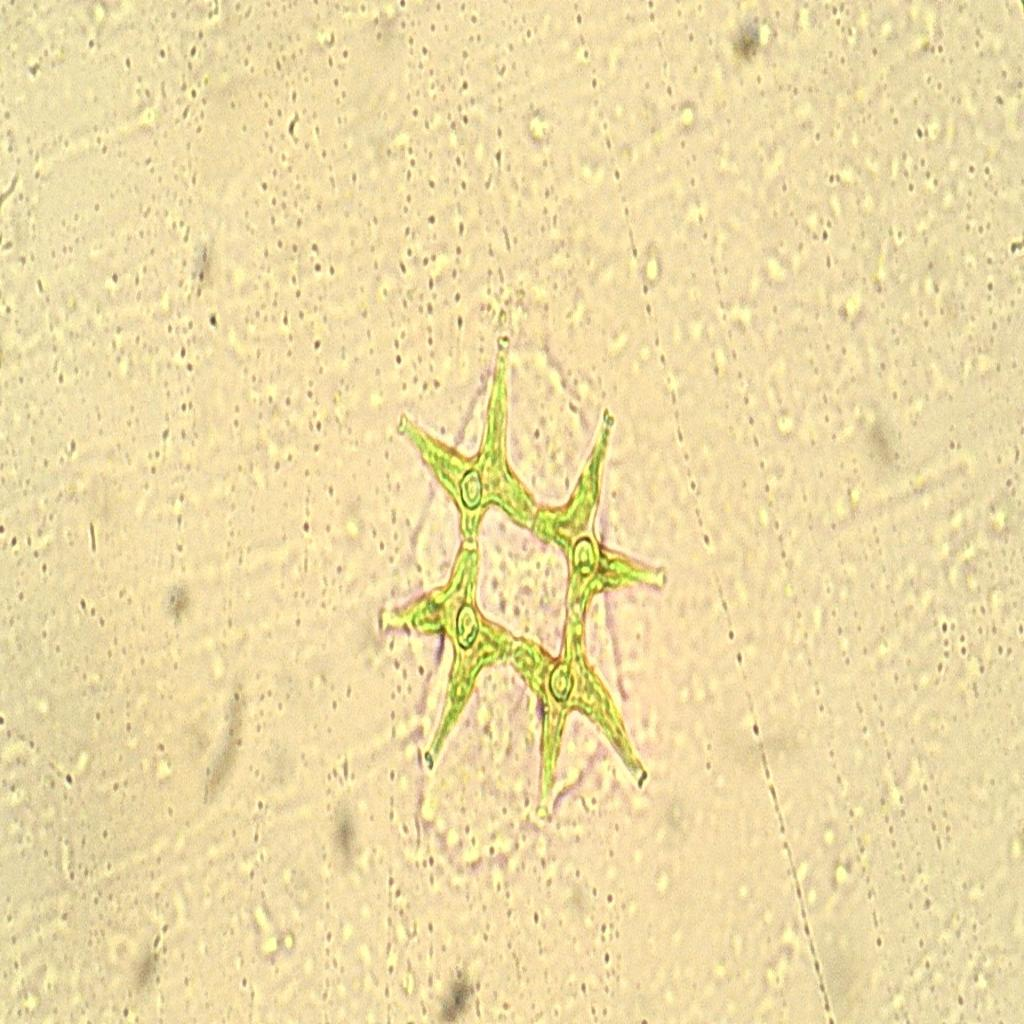Pediastrum_75O: (354, 302, 689, 847)
